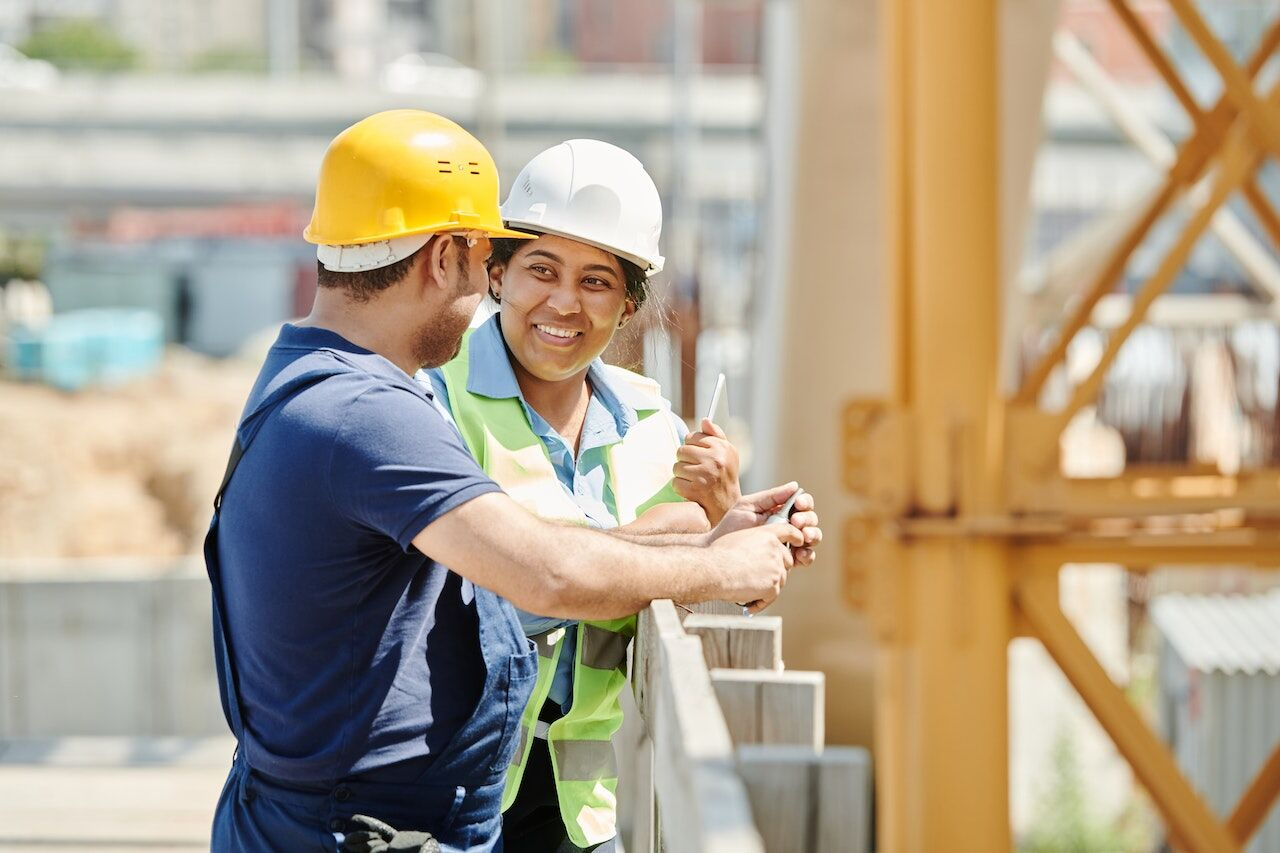hat: (298, 108, 541, 248), (497, 119, 667, 277)
jacket: (416, 319, 688, 850)
